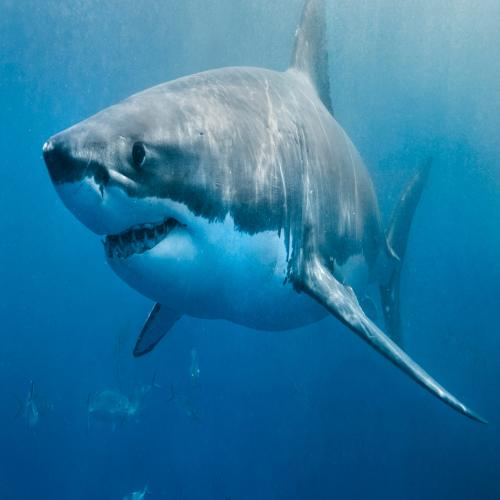shark-endangered: (41, 22, 402, 348)
